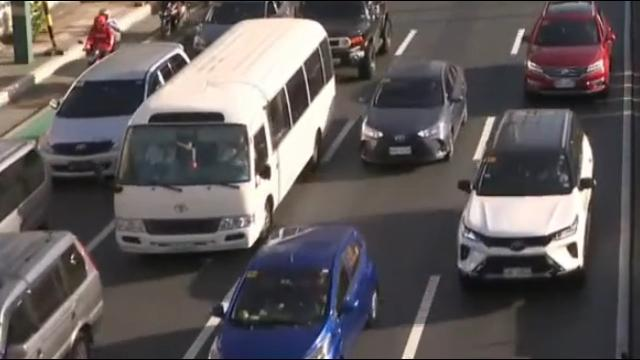car: (454, 107, 596, 285), (205, 227, 378, 360), (46, 38, 191, 185), (0, 229, 102, 360), (354, 62, 471, 166), (518, 0, 615, 100), (293, 0, 394, 77), (0, 135, 52, 255), (190, 1, 292, 62)
motorcycle: (80, 11, 127, 73)
van: (117, 18, 334, 256)
